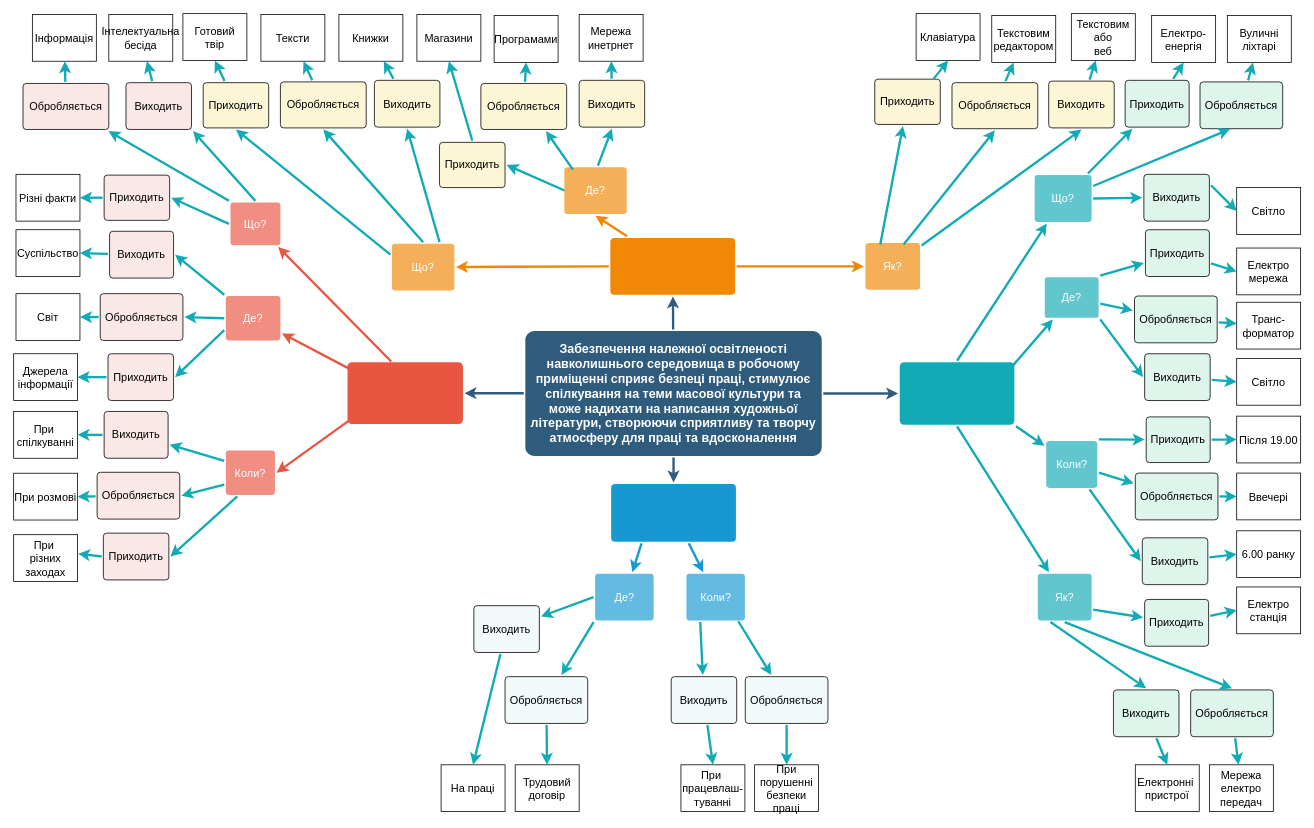
Some shapes in this 1314 by 828 pixel diagram are drawn without their labels. Each missing label, with the box of its shape:
безпека праці: (611, 484, 736, 541)
написання художньої літератури: (610, 238, 735, 294)
освітленість навколишнього середовища: (899, 362, 1014, 424)
спілкування на теми масової культури: (347, 362, 463, 424)
